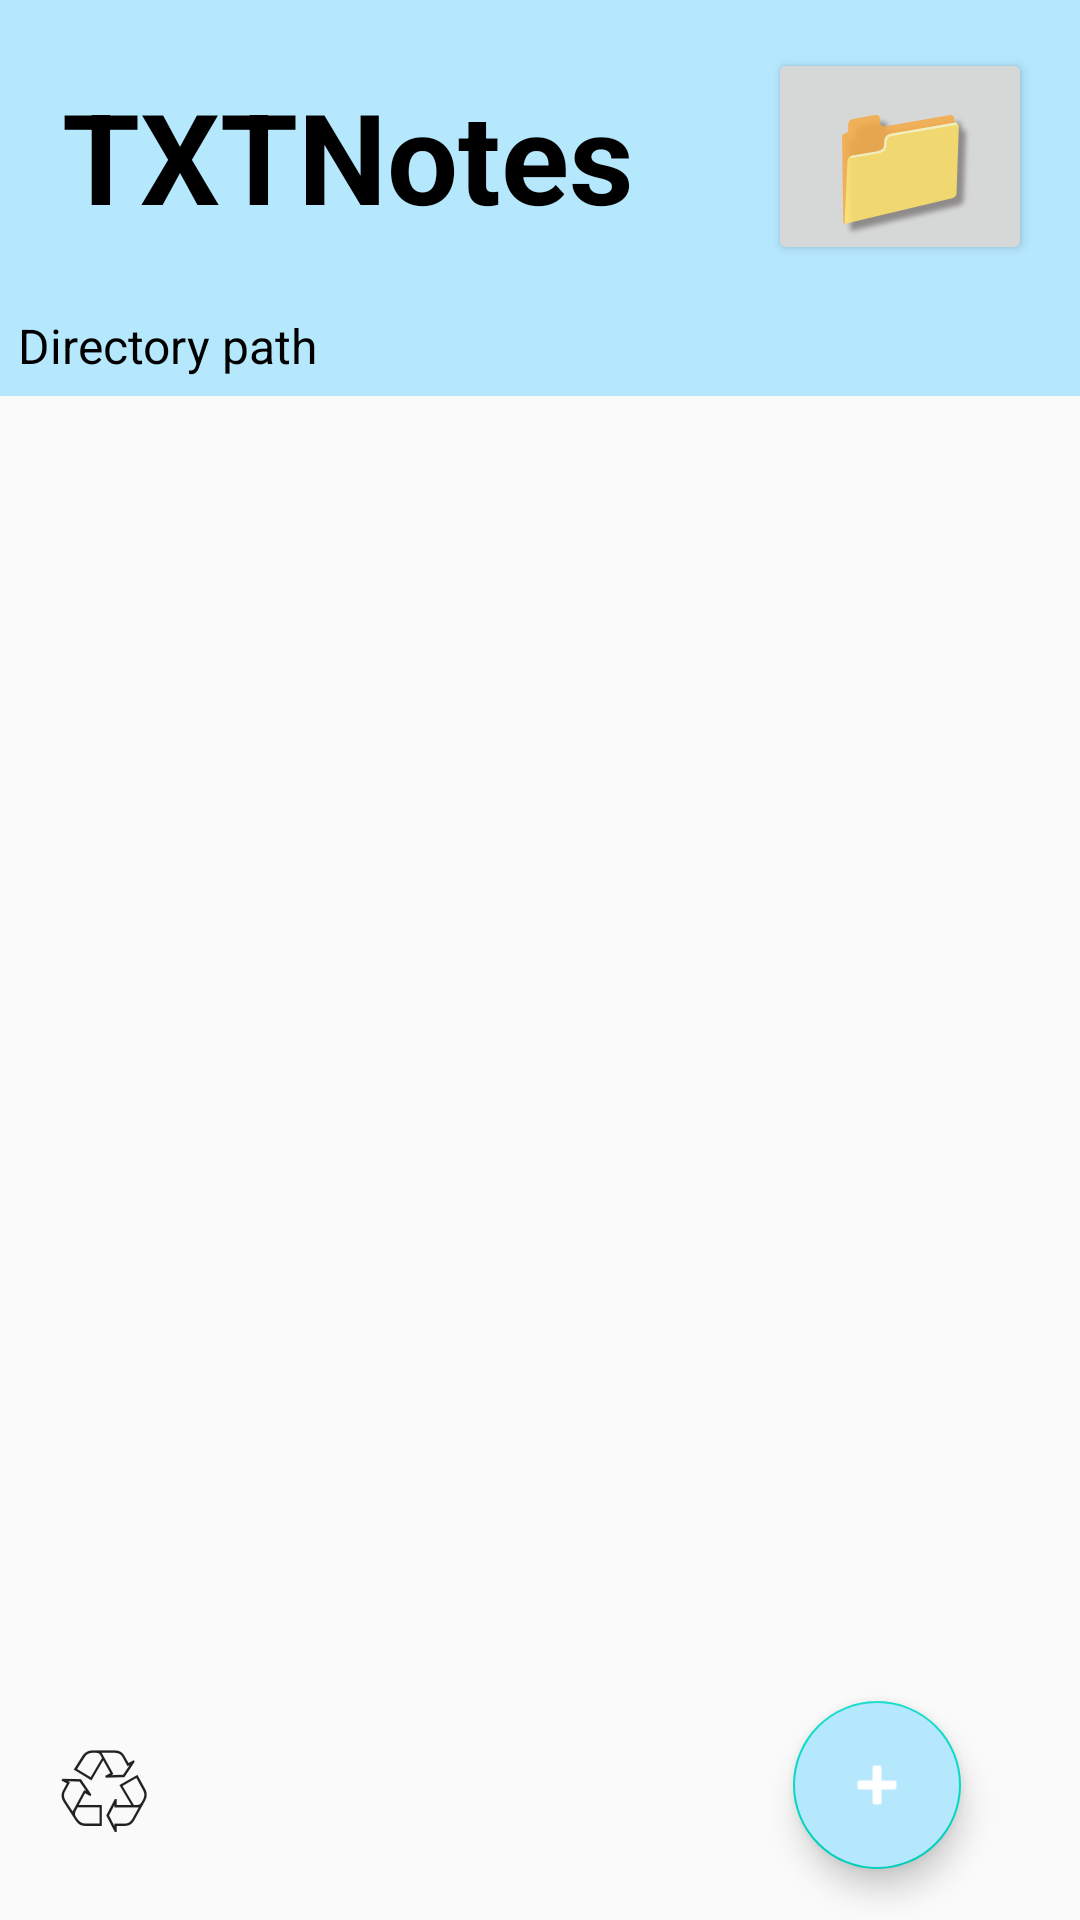

Where to tap for icons on this 1080 × 1920 app screen, as point (x, y):
Create new TXT file: point (877, 1785)
